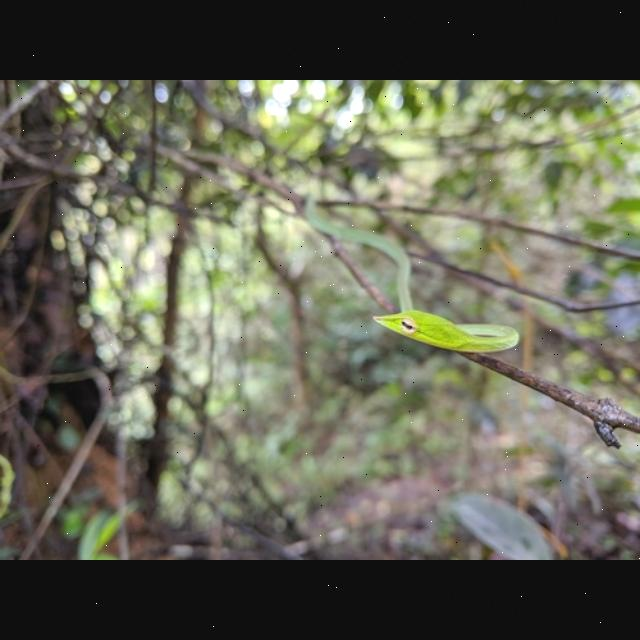snake: (283, 178, 523, 356)
